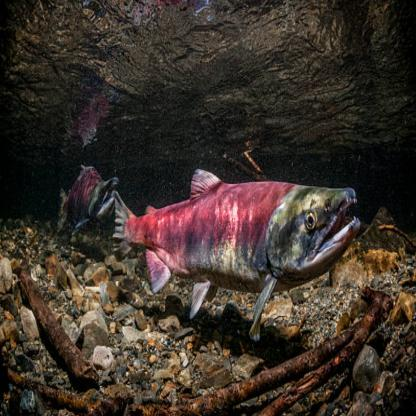sockeye: (118, 174, 370, 321), (58, 153, 118, 239)
